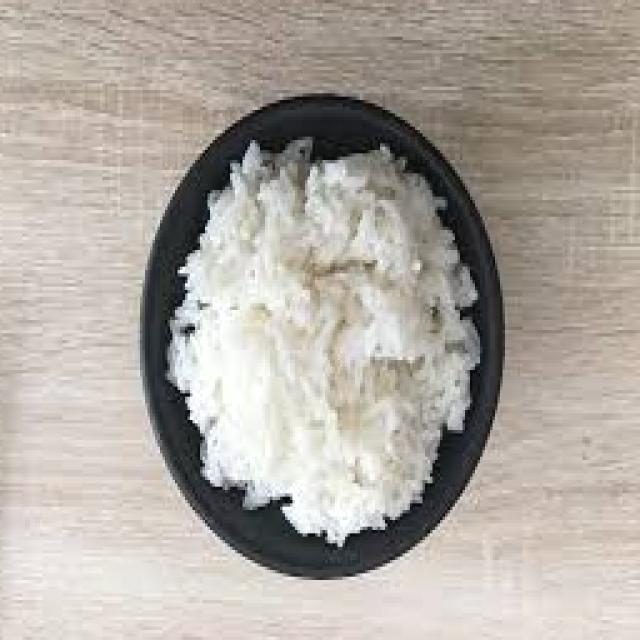nasi: (164, 135, 476, 546)
